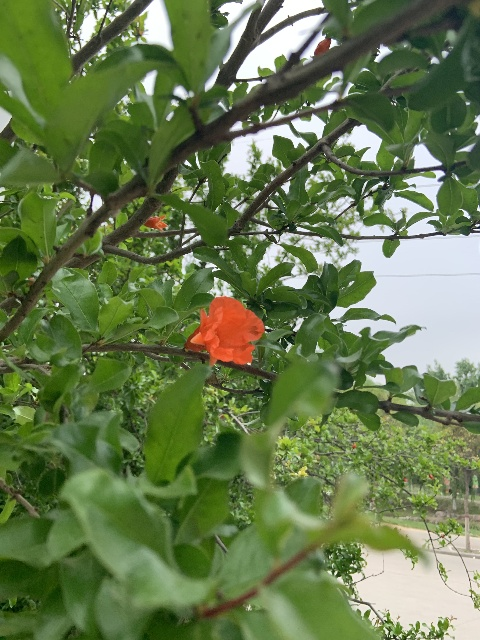bud: (313, 37, 331, 56)
flower: (186, 296, 263, 366), (143, 213, 168, 231)
